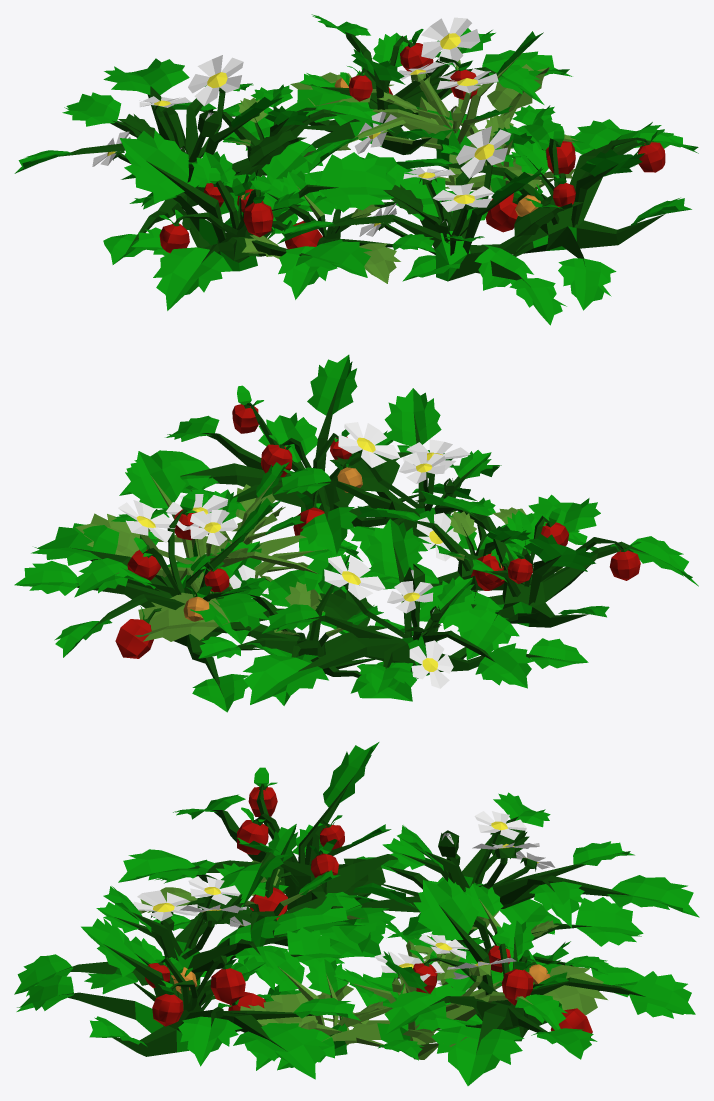
File: strawberry.glb
3 views of the same model, one above another, from view 1: azimuth 30°, elevation 25°; view 2: azimuth 150°, elevation 25°; view 3: azimuth 270°, elevation 25° (orthographic). The views are drawn at different scales.
Visible parts, largest first — view 1: strawberry_3, strawberry_2, strawberry_1; view 2: strawberry_3, strawberry_2, strawberry_1; view 3: strawberry_3, strawberry_2, strawberry_1.
Part boxes in pixels (box(x1,y1,x2,y2)): strawberry_3: box(120, 14, 698, 310); strawberry_2: box(14, 17, 591, 325); strawberry_1: box(121, 72, 634, 299); strawberry_3: box(14, 354, 698, 712); strawberry_2: box(74, 388, 588, 704); strawberry_1: box(135, 462, 597, 705); strawberry_3: box(16, 742, 695, 1085); strawberry_2: box(14, 792, 699, 1070); strawberry_1: box(139, 824, 643, 1070).
Size of the model in its own units: 3.17 by 0.7499 by 3.36.
